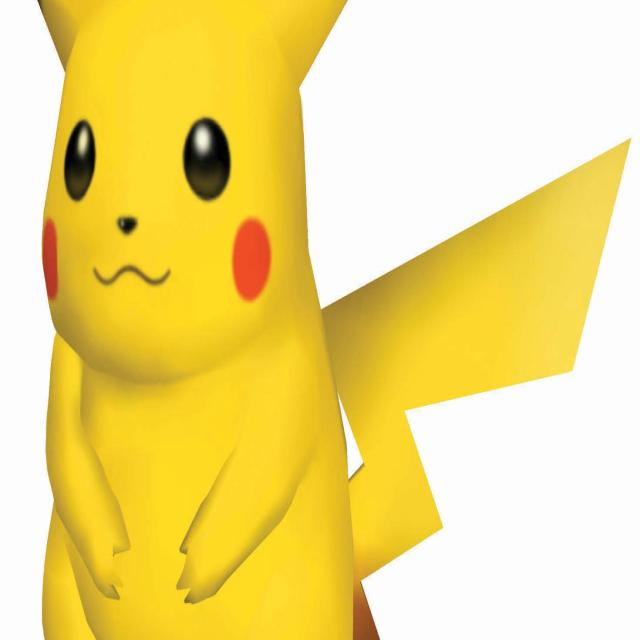pikachu: (39, 0, 630, 638)
